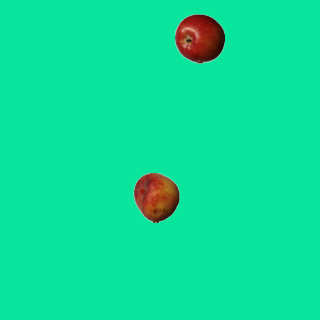Apple Braeburn: (174, 13, 224, 63)
Peach: (131, 172, 181, 222)
